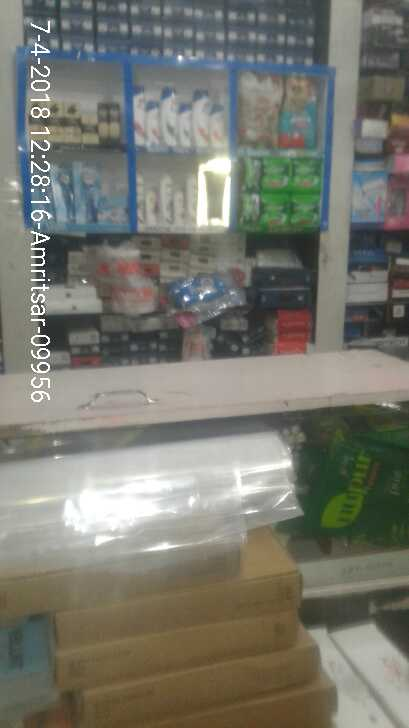venus: (77, 158, 95, 220), (55, 161, 72, 219), (98, 196, 127, 222)
